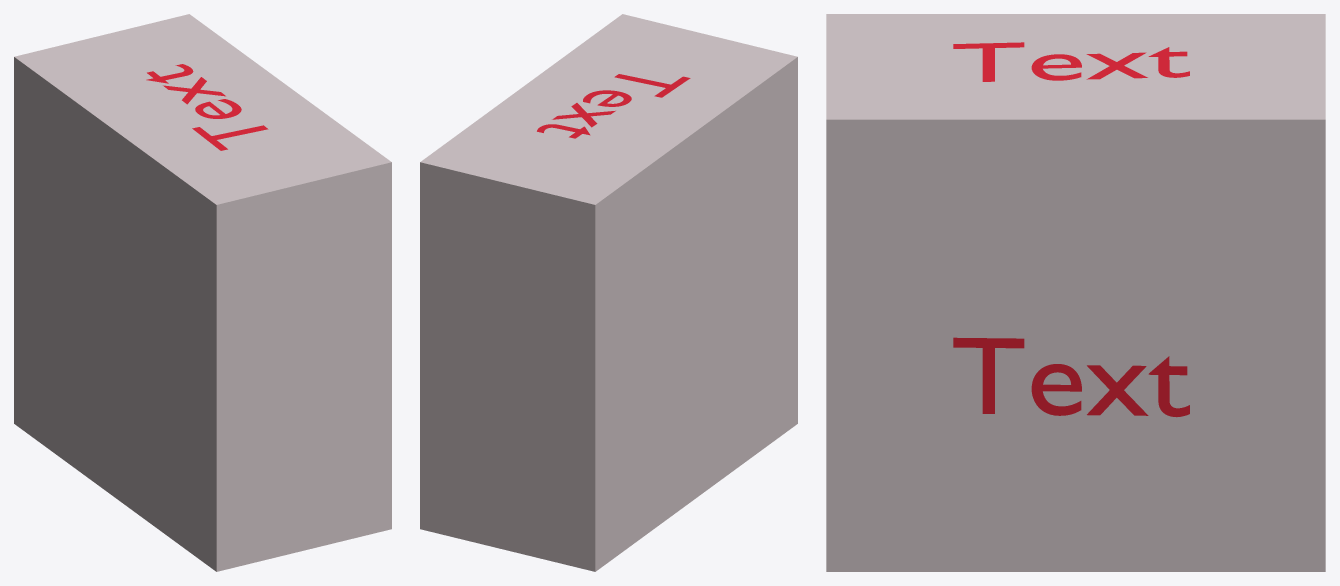
The model's file is meltable.fbx.
3 views of the same model, side by side, from view 1: azimuth 30°, elevation 25°; view 2: azimuth 150°, elevation 25°; view 3: azimuth 270°, elevation 25° (orthographic). The views are drawn at different scales.
Parts seen in each view (by area): view 1: Cube, Text.001; view 2: Cube, Text.001; view 3: Cube, Text, Text.001.
Part boxes in pixels (x1,y1,x2,y2): Cube: (14, 14, 391, 571); Text.001: (146, 64, 268, 150); Cube: (420, 14, 797, 571); Text.001: (537, 74, 690, 138); Cube: (826, 14, 1325, 571); Text: (953, 337, 1189, 417); Text.001: (953, 42, 1189, 81).
Bounding box in the file's own units: 207 × 407 × 400.
